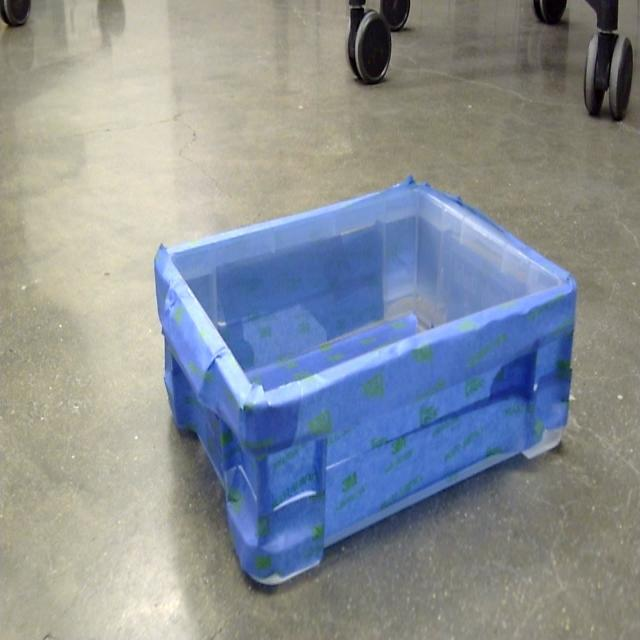bucket: (152, 178, 578, 591)
